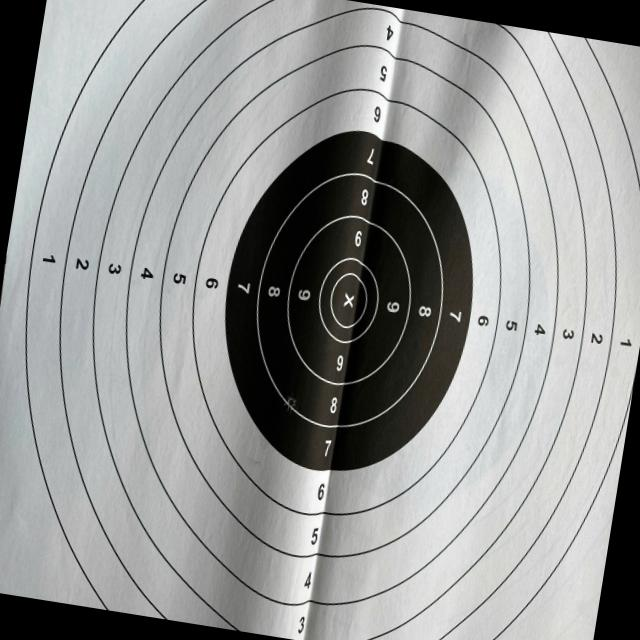bullet: (287, 397, 295, 408)
target: (0, 0, 640, 640)
